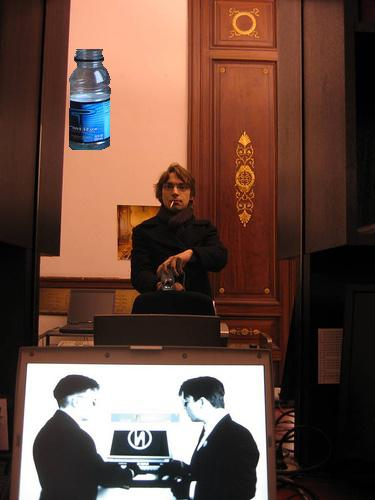tampered: (70, 50, 111, 150)
